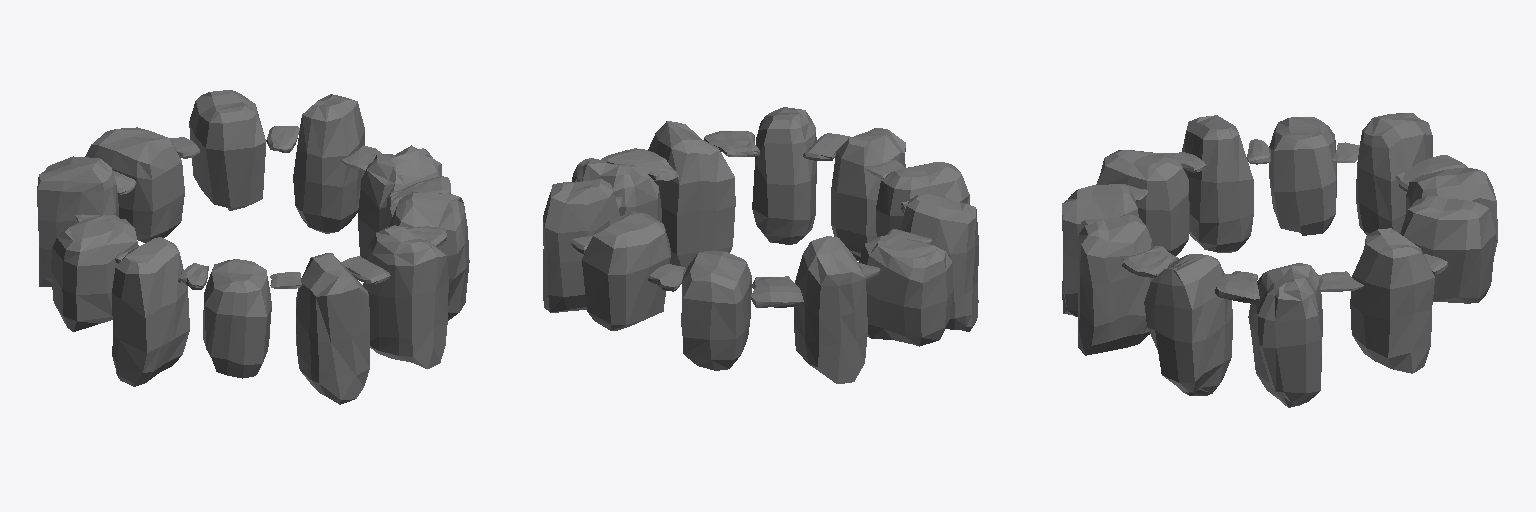
Rendered from Center_Stone_Symbols.obj.
3 renders of one model, left to right at view 1: azimuth 30°, elevation 25°; view 2: azimuth 150°, elevation 25°; view 3: azimuth 270°, elevation 25°, orthographic.
Visible parts, largest first — view 1: Center_stones:Mesh, Stone_Symbols1:Mesh; view 2: Center_stones:Mesh, Stone_Symbols1:Mesh; view 3: Center_stones:Mesh, Stone_Symbols1:Mesh.
Part boxes in pixels (bbox=[...]): Center_stones:Mesh: bbox=[37, 90, 469, 404]; Stone_Symbols1:Mesh: bbox=[75, 126, 450, 289]; Center_stones:Mesh: bbox=[543, 107, 978, 383]; Stone_Symbols1:Mesh: bbox=[570, 131, 945, 307]; Center_stones:Mesh: bbox=[1062, 113, 1497, 407]; Stone_Symbols1:Mesh: bbox=[1081, 139, 1467, 303].
Size of the model in its own units: 10.65 by 4.61 by 10.81.